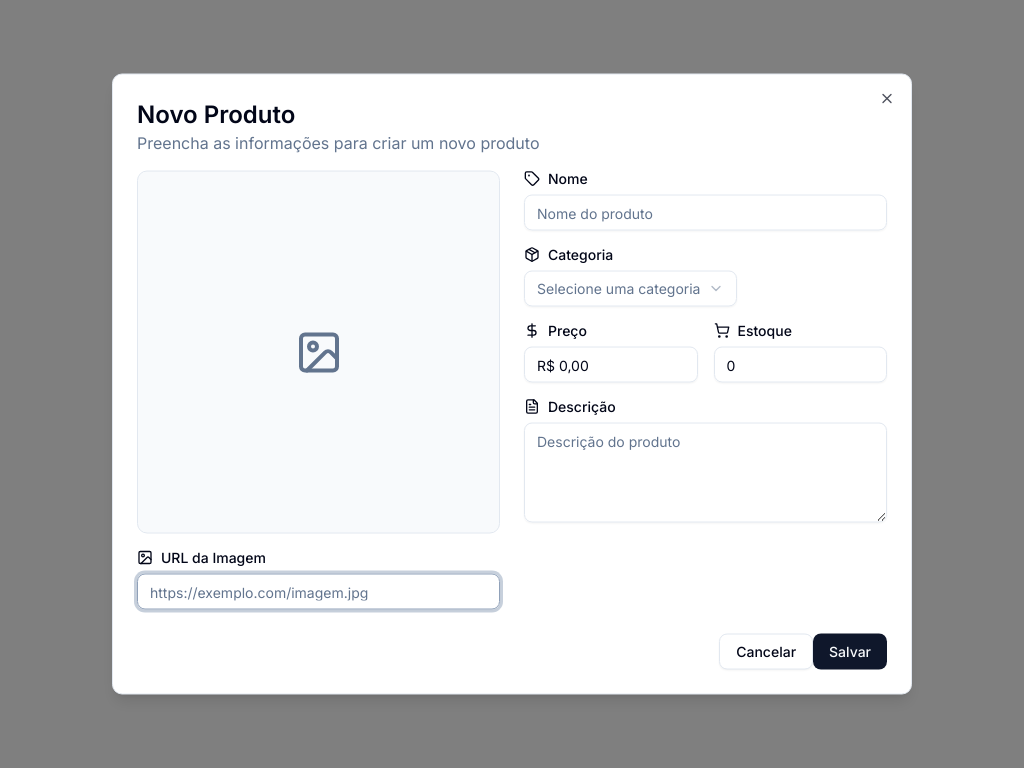
Test: ProductModal › deve validar campos obrigatórios ao tentar salvar
This screenshot has width=1024, height=768.
Click the button "Salvar": [850, 652] box [813,634,887,670]
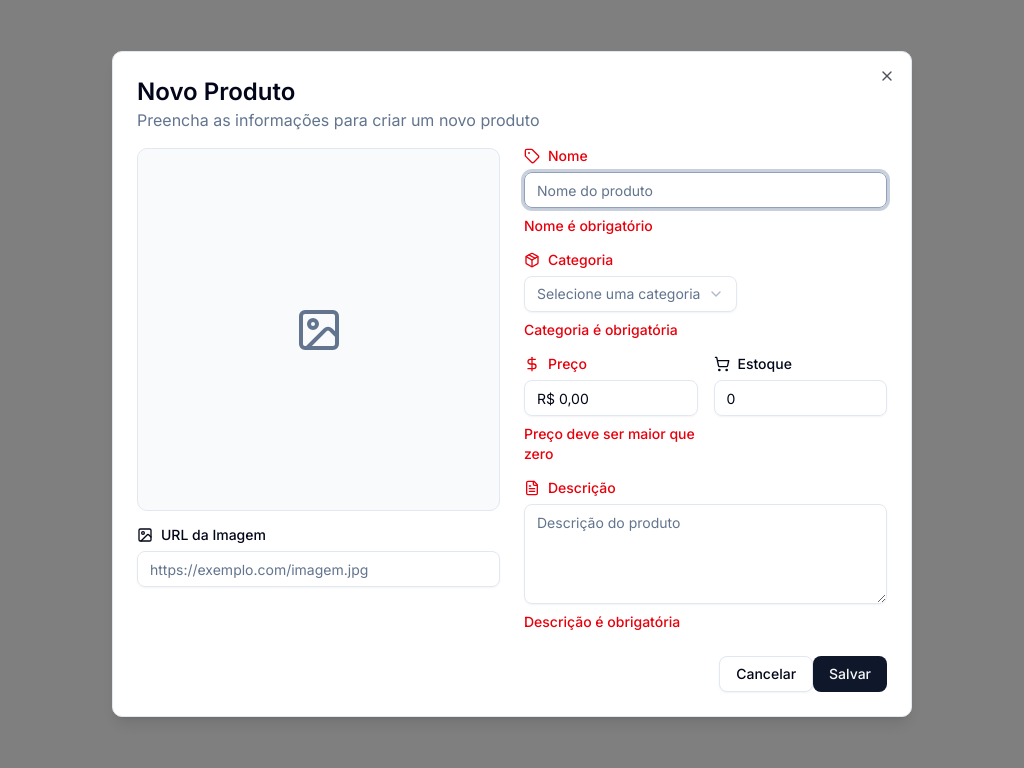
Expected: the number of messages is 4, [524,217,653,234]; [524,321,678,338]; [524,424,698,464]; [524,613,680,630]
Expected: the message "Nome é obrigatório" is shown, [524,217,653,234]
Expected: the message "Categoria é obrigatória" is shown, [524,321,678,338]
